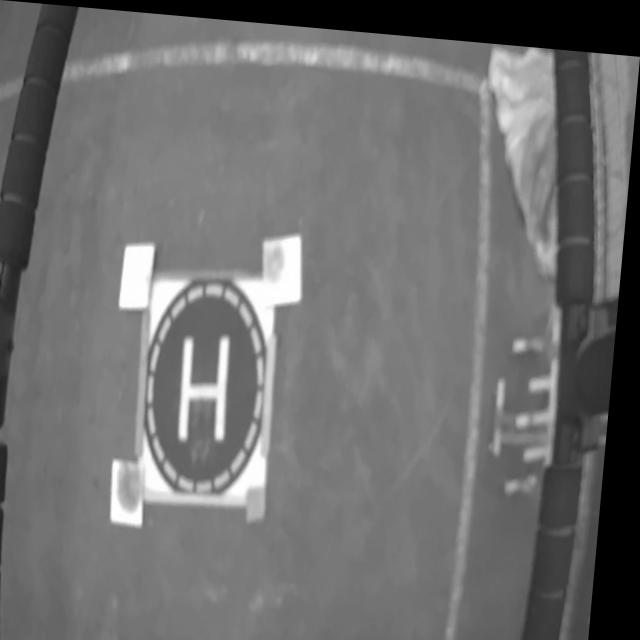Helipad: (185, 331, 237, 439)
